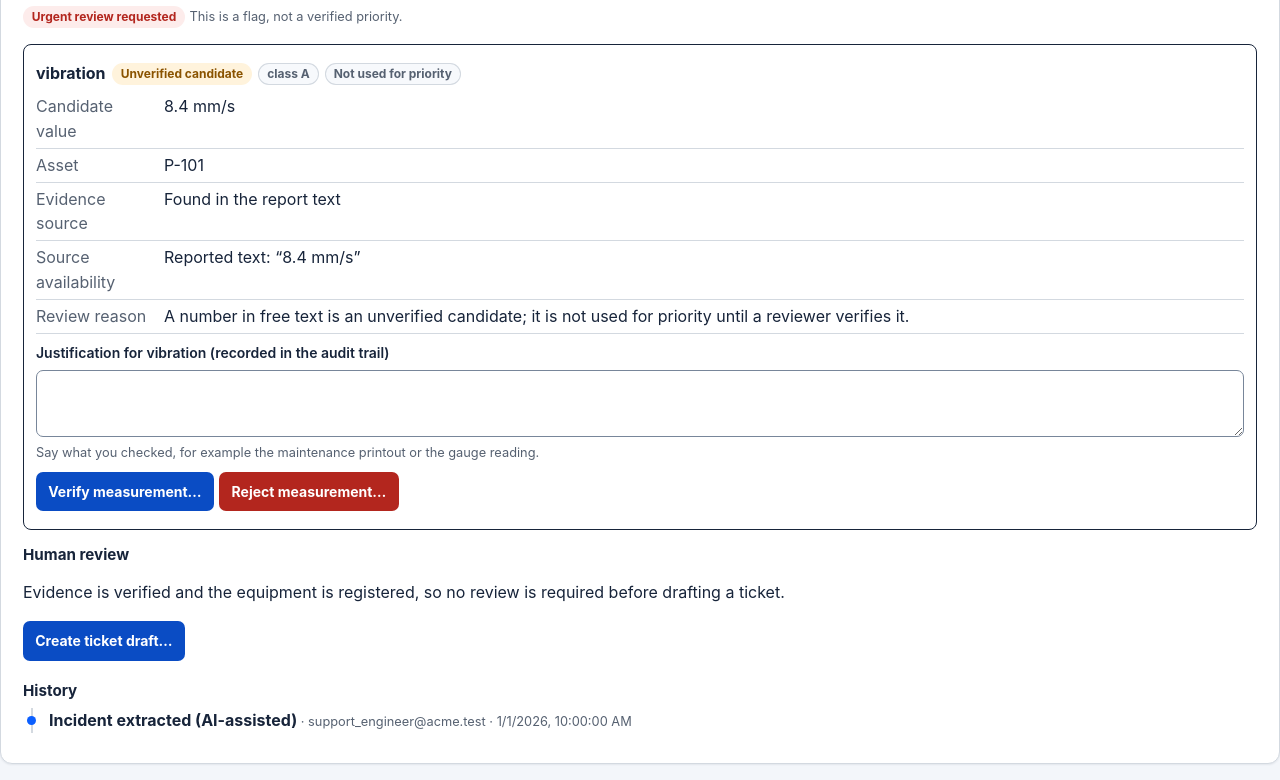
Test: measurement review panel › rejects a measurement and shows it excluded from priority
(page scrolled)
In the text box labelled "Justification for vibration (recorded in the audit trail)": coordinates (640, 404) [36,370,1244,437], type "Does not match the printout."
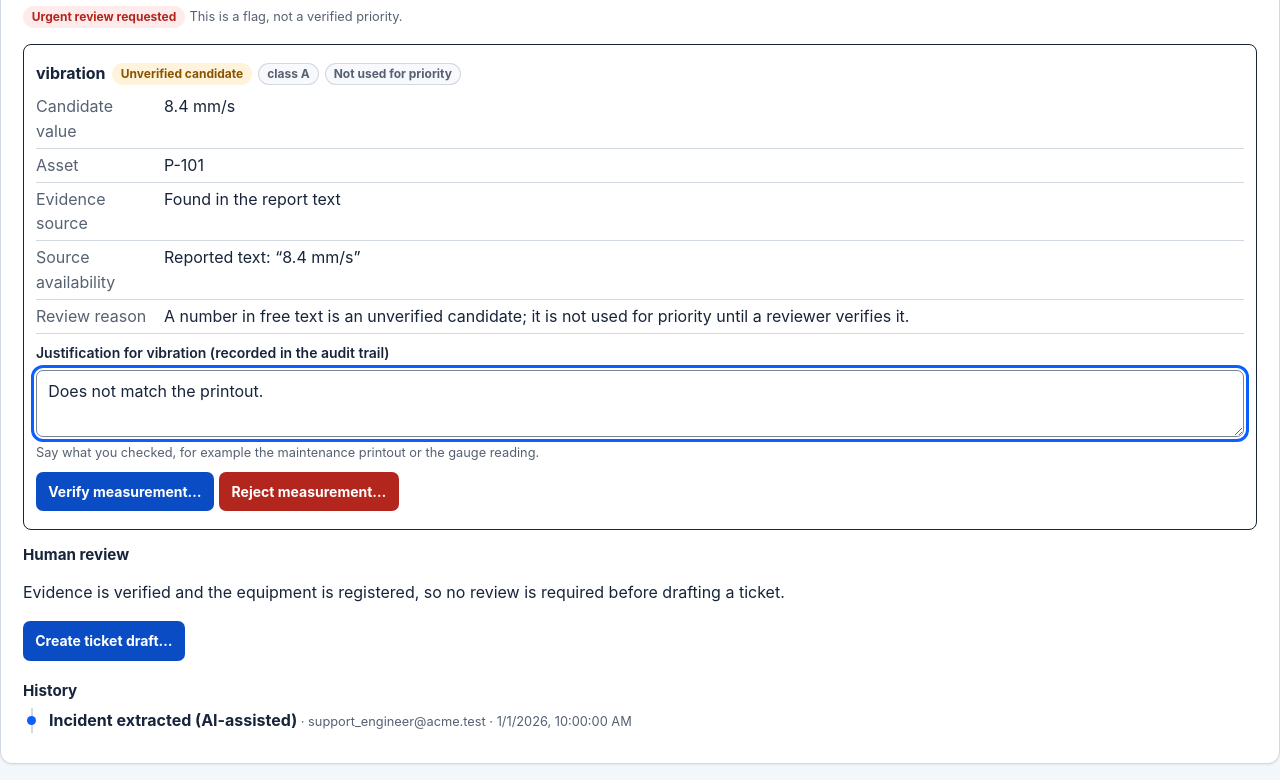
Click the button "Reject measurement…": coordinates (309, 491) [219,472,399,511]
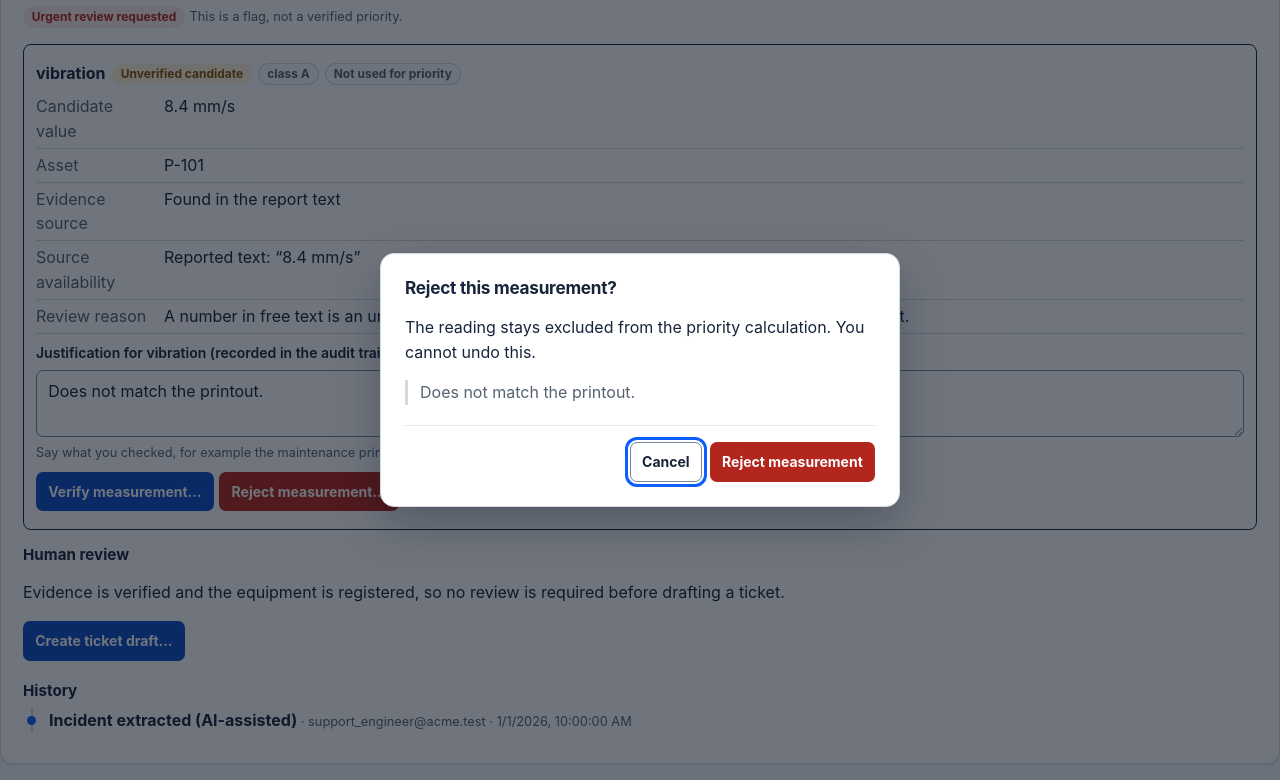
Expected: the text "stays excluded from the priority calculation" is shown, [405,317,864,362]
Click the button "Reject measurement": coordinates (792, 462) [710,442,875,482]
(page scrolled)
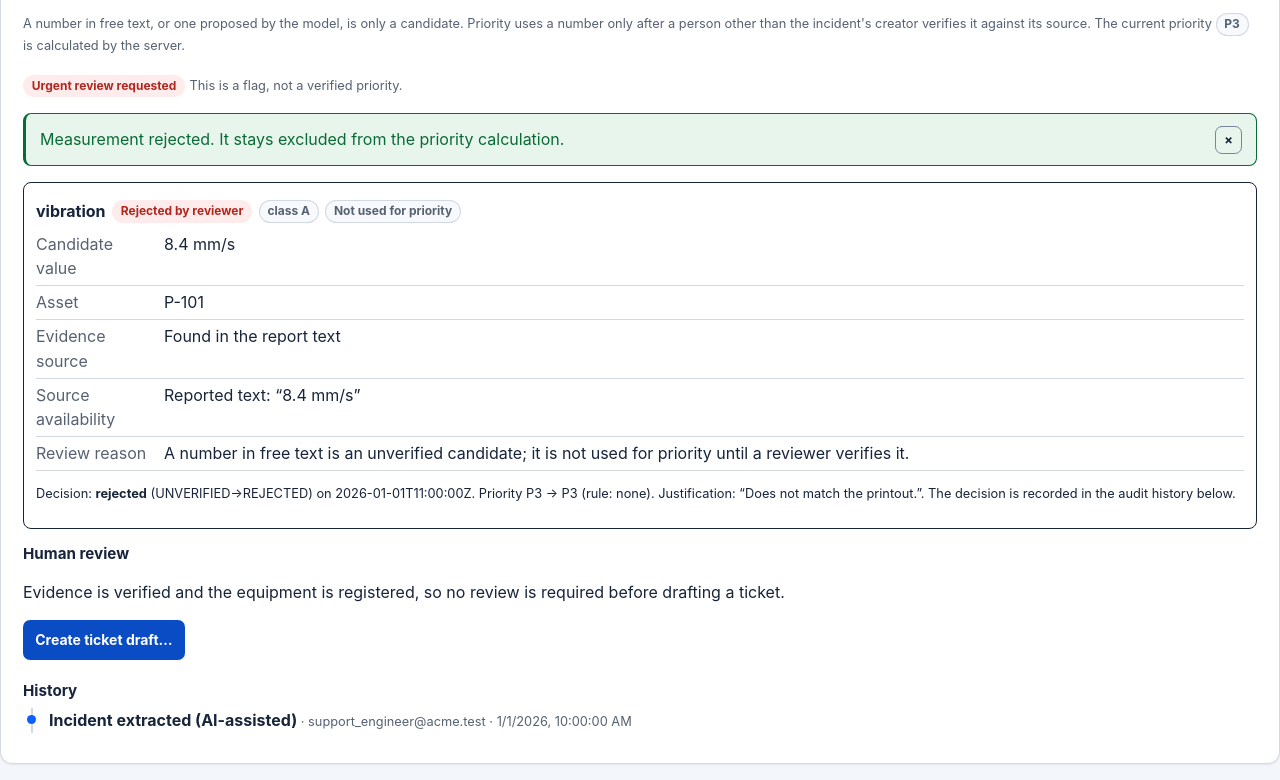
Expected: the text "Not used for priority" is shown, [325,200,461,223]
Expected: the text "Rejected by reviewer" is shown, [112,200,252,223]
Expected: the text "It stays excluded from the priority calculation" is shown, [40,129,564,149]
